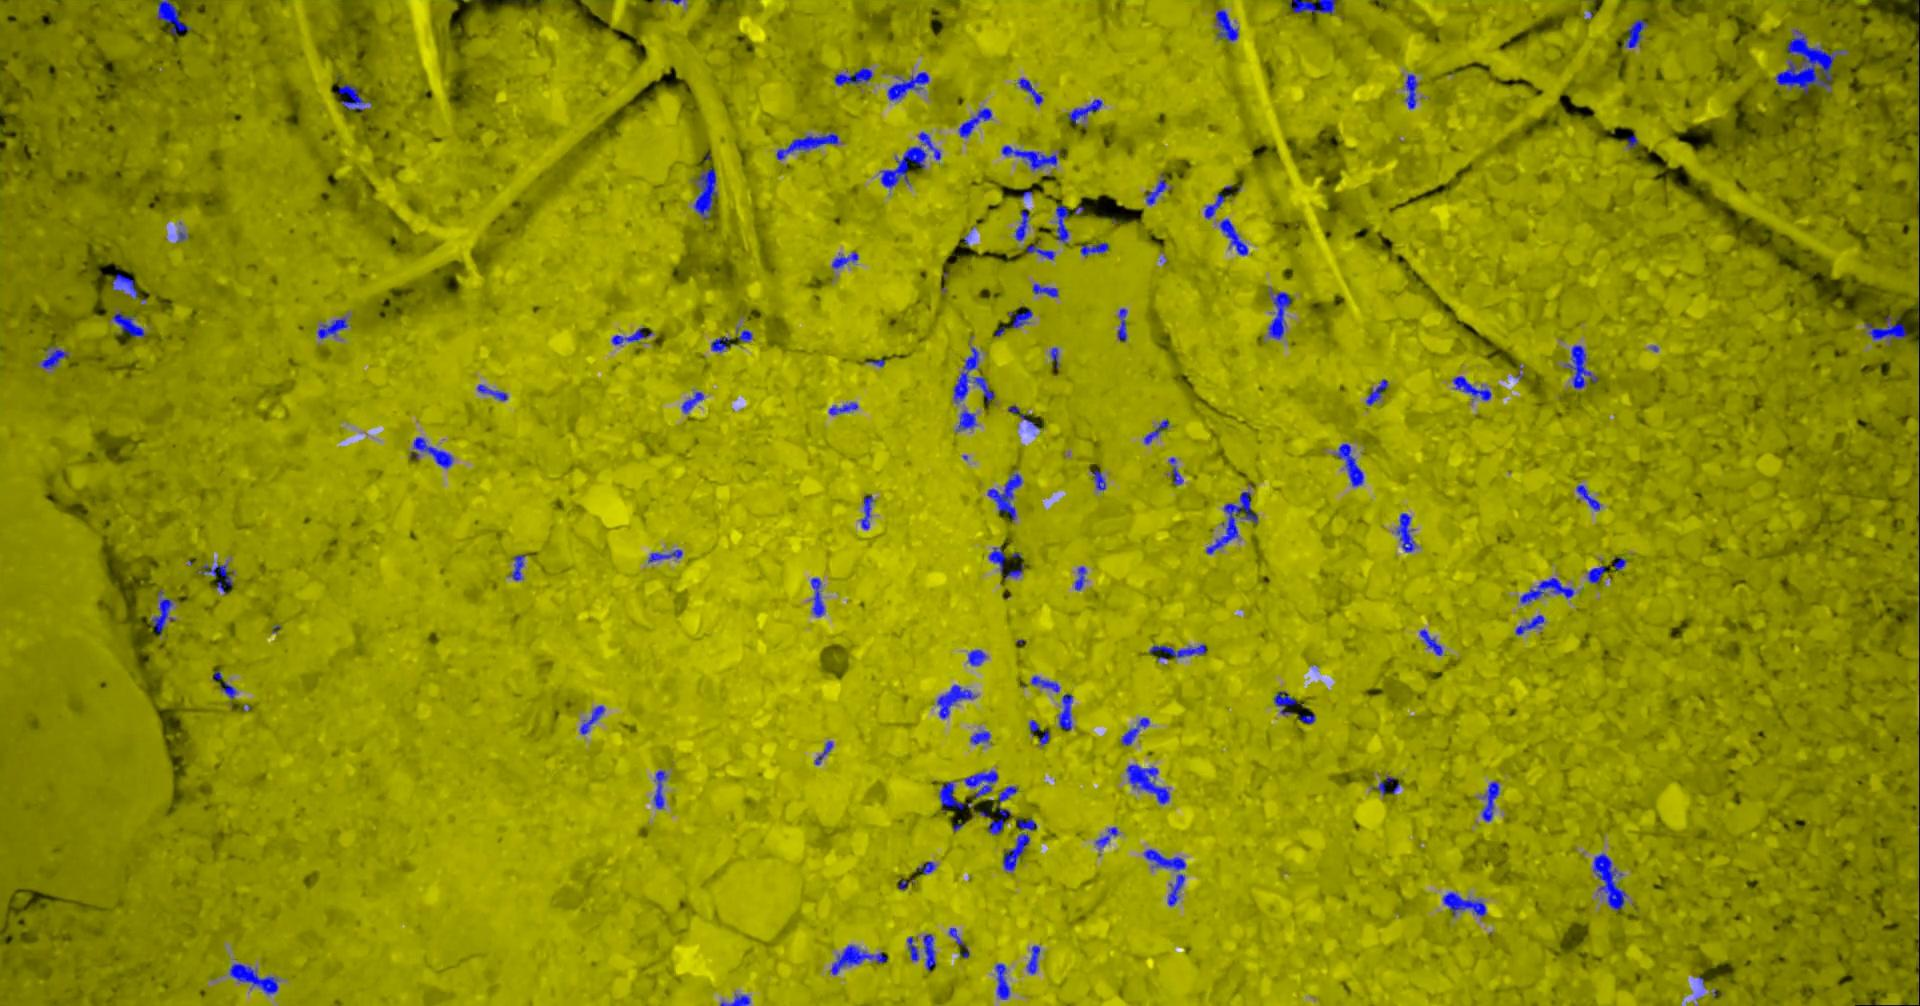ant: (1205, 492, 1257, 553), (952, 345, 994, 403), (1143, 848, 1185, 906), (879, 146, 926, 188), (1002, 817, 1036, 871), (1592, 854, 1625, 909), (1125, 763, 1170, 803), (829, 945, 886, 974), (987, 473, 1021, 520), (776, 133, 838, 159), (229, 963, 278, 995), (1519, 577, 1573, 603), (1001, 145, 1057, 170), (936, 683, 977, 718), (1564, 345, 1597, 387), (988, 785, 1016, 835), (409, 436, 452, 467), (888, 71, 930, 100), (1335, 443, 1363, 486), (693, 166, 716, 218), (1865, 315, 1907, 343), (1267, 291, 1291, 339), (156, 0, 190, 33), (197, 563, 232, 593), (151, 589, 174, 635), (1219, 218, 1247, 255), (1451, 375, 1490, 401), (1443, 890, 1484, 915), (957, 107, 990, 137), (337, 83, 370, 111), (1204, 185, 1230, 218), (964, 770, 997, 796), (1067, 99, 1102, 123), (938, 781, 968, 810), (1396, 512, 1417, 551), (1121, 716, 1149, 746), (112, 312, 145, 337), (833, 66, 872, 85), (579, 705, 604, 734), (1215, 9, 1238, 41), (1007, 405, 1039, 428), (1149, 644, 1206, 657), (611, 326, 651, 344), (1481, 781, 1498, 821), (1017, 77, 1043, 104), (1418, 627, 1443, 655), (1145, 173, 1166, 205), (1143, 419, 1168, 445), (110, 273, 137, 297), (1575, 484, 1599, 511), (1624, 19, 1647, 47), (917, 131, 940, 159), (41, 345, 67, 368), (1288, 0, 1335, 13), (317, 318, 347, 338), (1365, 379, 1387, 405), (1515, 614, 1543, 634), (810, 577, 824, 616), (994, 963, 1010, 998), (653, 770, 667, 808), (1272, 691, 1295, 714), (1055, 205, 1068, 244), (1058, 694, 1072, 729), (1095, 826, 1117, 847), (1007, 307, 1032, 326), (477, 384, 507, 400), (860, 494, 874, 528), (922, 934, 935, 970), (955, 409, 977, 431), (681, 391, 703, 412), (830, 251, 858, 268), (1031, 674, 1059, 691), (1404, 72, 1417, 108), (1025, 244, 1054, 259), (1015, 208, 1029, 240), (648, 549, 682, 561), (988, 546, 1004, 572), (814, 741, 832, 763), (1371, 776, 1394, 794), (1168, 457, 1182, 485), (510, 554, 524, 580), (1079, 243, 1109, 255), (828, 401, 857, 414), (719, 993, 750, 1005), (1026, 945, 1039, 973), (1032, 283, 1058, 296), (1587, 565, 1605, 583), (905, 936, 918, 960), (710, 337, 731, 351), (1117, 307, 1126, 340), (968, 649, 985, 666), (220, 681, 236, 699), (1004, 563, 1023, 578), (970, 730, 990, 744), (1074, 567, 1086, 589), (1092, 470, 1105, 490), (949, 927, 963, 945), (1611, 555, 1625, 570), (1037, 729, 1049, 746), (918, 861, 935, 873), (1627, 131, 1637, 149), (1050, 347, 1059, 367), (1297, 713, 1314, 723), (737, 329, 750, 340)
